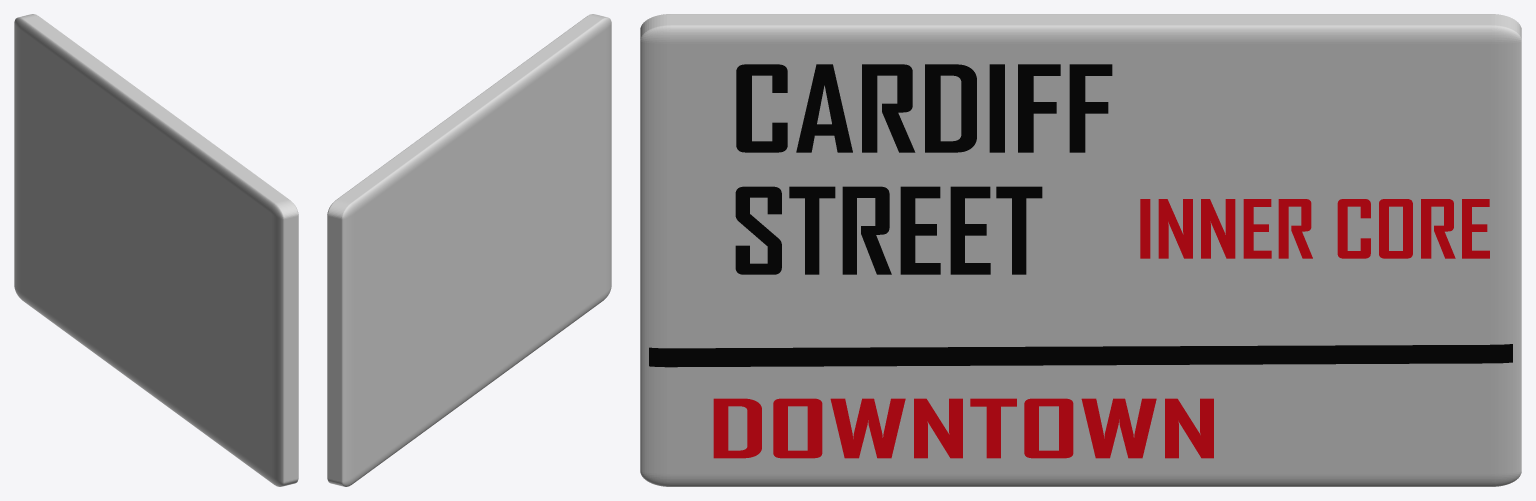
The model's file is uk_styled_street_sign_59.fbx.
3 views of the same model, side by side, from view 1: azimuth 30°, elevation 25°; view 2: azimuth 150°, elevation 25°; view 3: azimuth 270°, elevation 25° (orthographic). The views are drawn at different scales.
Parts seen in each view (by area): view 1: Cube; view 2: Cube; view 3: Cube, Text.002, Text, Text.001, Text.003.
Boxes of the visible parts, left/top/right/bottom form: Cube: left=14, top=14, right=298, bottom=486; Cube: left=327, top=14, right=611, bottom=486; Cube: left=640, top=14, right=1521, bottom=486; Text.002: left=713, top=398, right=1213, bottom=458; Text: left=736, top=64, right=1112, bottom=152; Text.001: left=735, top=186, right=1042, bottom=274; Text.003: left=1140, top=199, right=1489, bottom=258.
Size of the model in its own units: 1.63 by 20.07 by 34.74.
